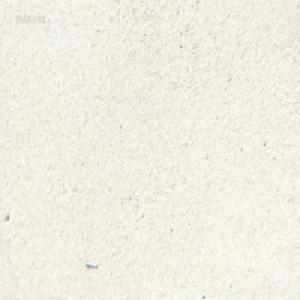Nail: (84, 258, 99, 268)
